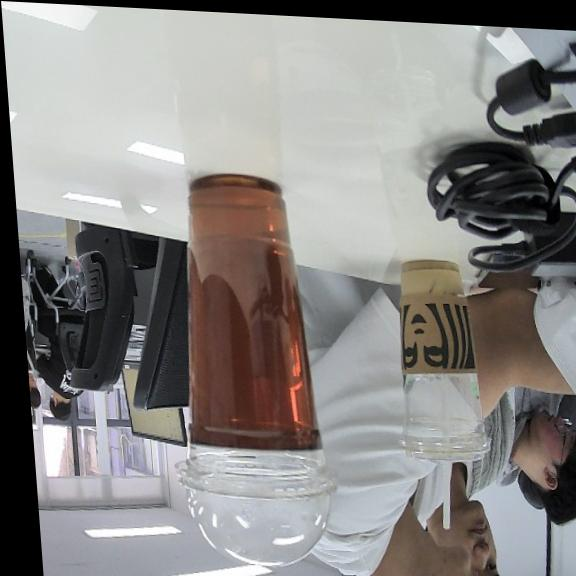Plastik: (177, 175, 334, 565)
